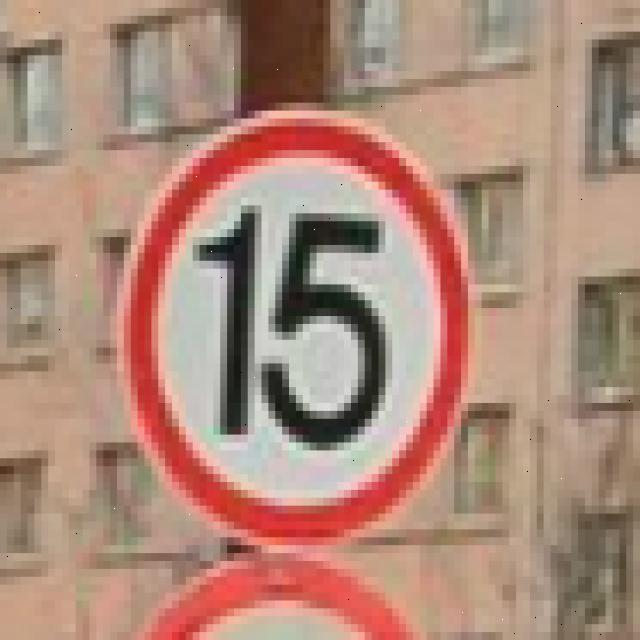speed limit 20: (117, 113, 474, 541)
